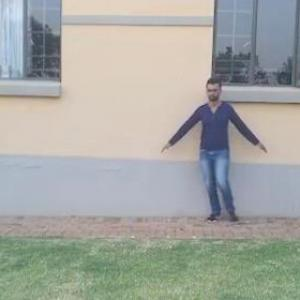land: (166, 78, 268, 234)
